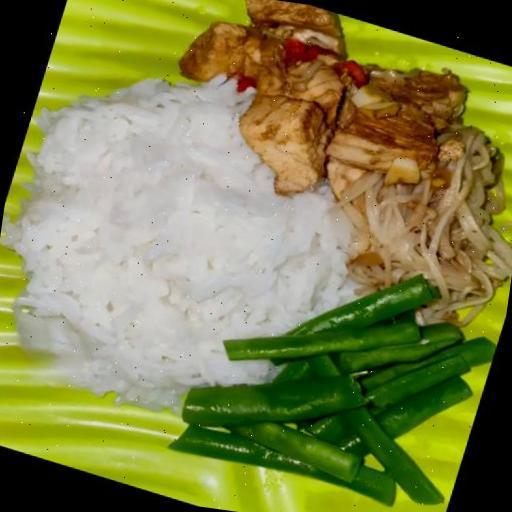buncis_rebus: (189, 222, 512, 512)
nasi_putih: (0, 61, 277, 438)
